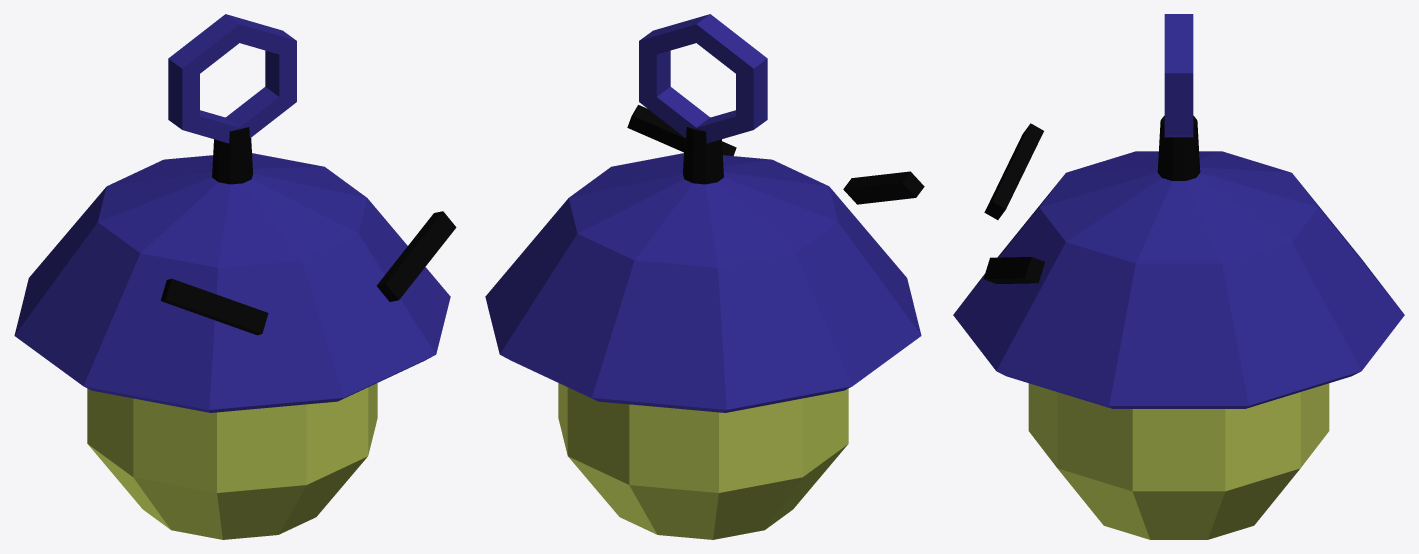
The model's file is light_bulb_model.dae.
3 views of the same model, side by side, from view 1: azimuth 30°, elevation 25°; view 2: azimuth 150°, elevation 25°; view 3: azimuth 270°, elevation 25° (orthographic).
Visible parts, largest first — view 1: cap, bulb, handle, rightEye, leftEye, screw; view 2: cap, bulb, handle, rightEye, screw, leftEye; view 3: cap, bulb, handle, screw, rightEye, leftEye.
Part boxes in pixels (x1,y1,x2,y2): cap: (14, 153, 450, 412); bulb: (87, 383, 377, 539); handle: (168, 14, 296, 143); rightEye: (160, 278, 268, 335); leftEye: (376, 211, 456, 301); screw: (212, 127, 252, 184); cap: (485, 153, 921, 412); bulb: (558, 383, 848, 539); handle: (639, 14, 767, 143); rightEye: (843, 171, 924, 204); screw: (683, 127, 723, 184); leftEye: (627, 105, 736, 155); cap: (953, 151, 1404, 408); bulb: (1028, 383, 1329, 539); handle: (1164, 14, 1193, 137); screw: (1157, 115, 1200, 180); rightEye: (984, 123, 1043, 219); leftEye: (983, 257, 1044, 283).
Bounding box in the file's own units: 2.72 × 3.6 × 2.86.
